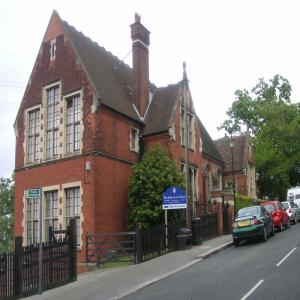Vehicle-registration-plate: (239, 220, 251, 227)
